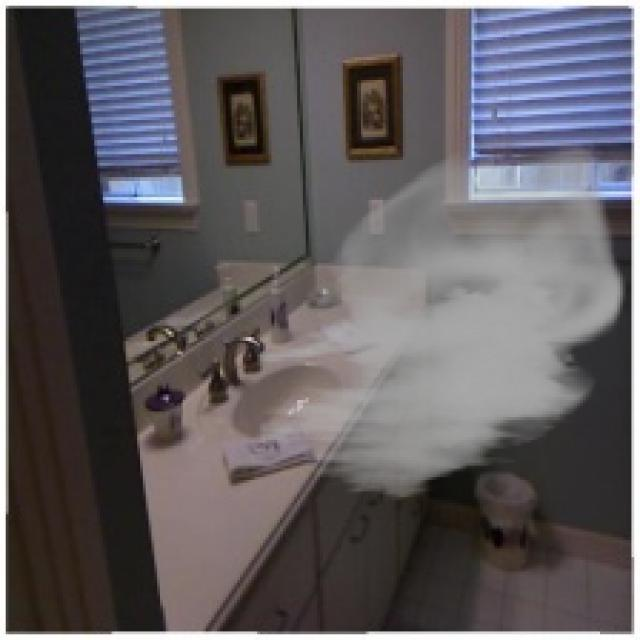smoke: (257, 143, 626, 503)
